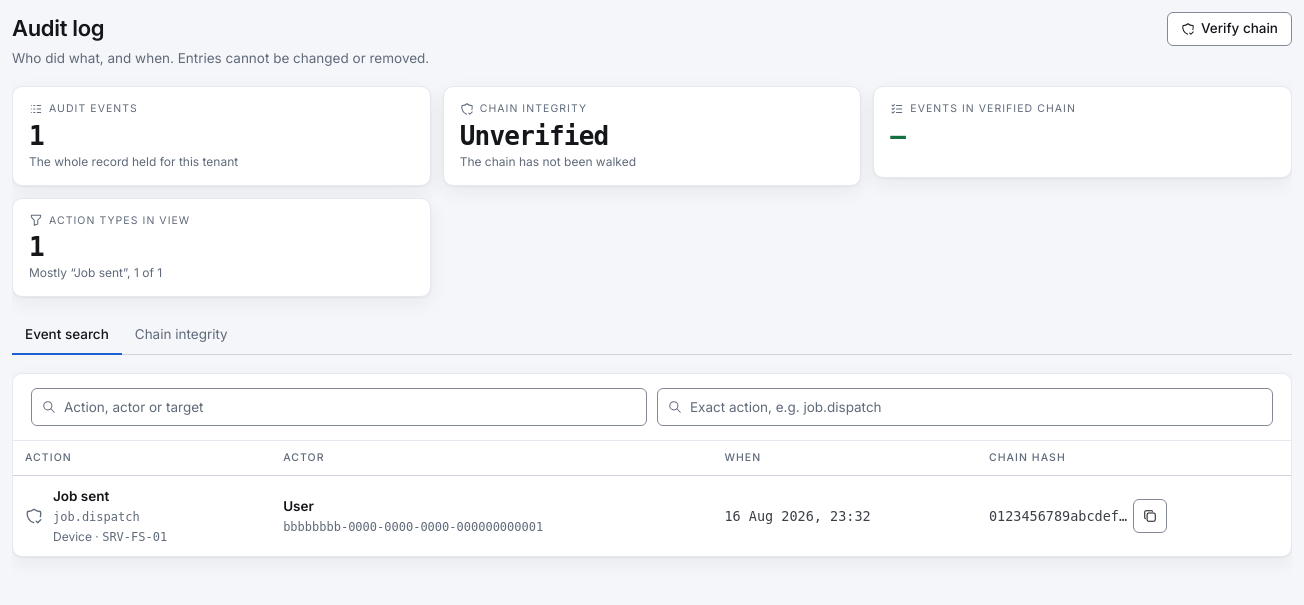
Test: AuditPage › says WHY the chain walk did not run, so a 403 and a 503 are not the same message
Expected: the text "job.dispatch" is shown, [53,510,140,524]
Click the tab "Chain integrity".
click(181, 335)  # box [122,315,241,355]
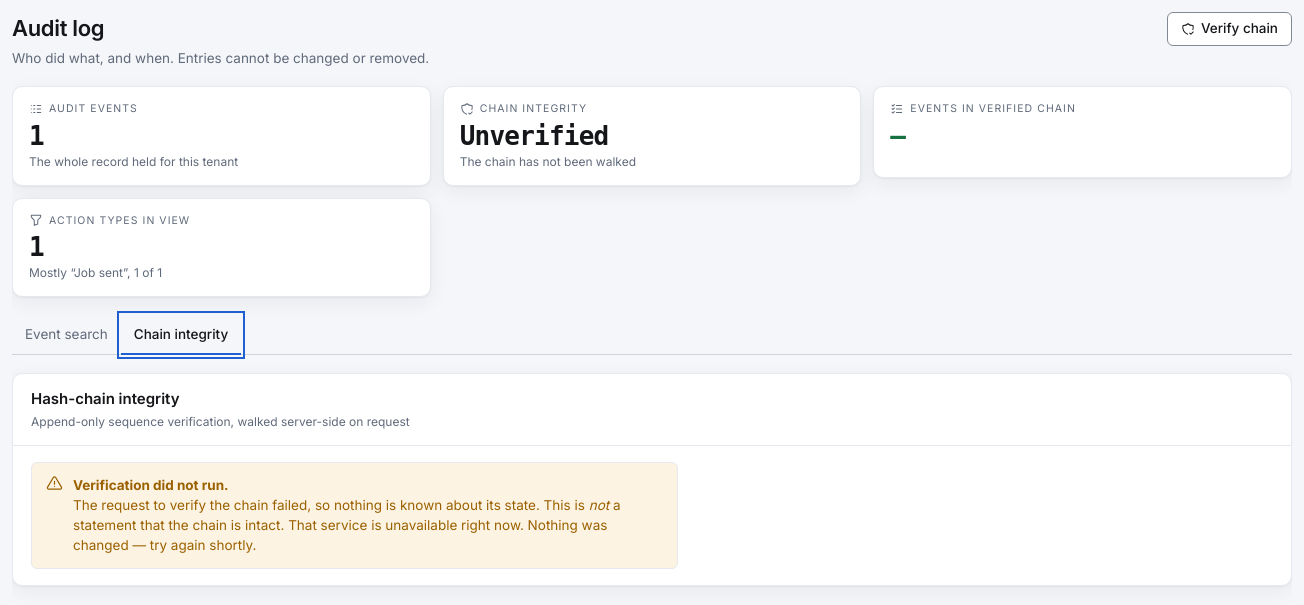
Result: the message shows "That service is unavailable right now." at [73,517,607,554]
